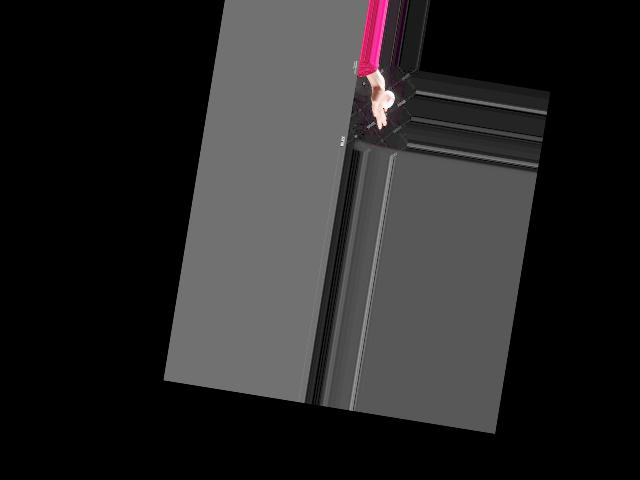egg: (380, 89, 395, 109)
